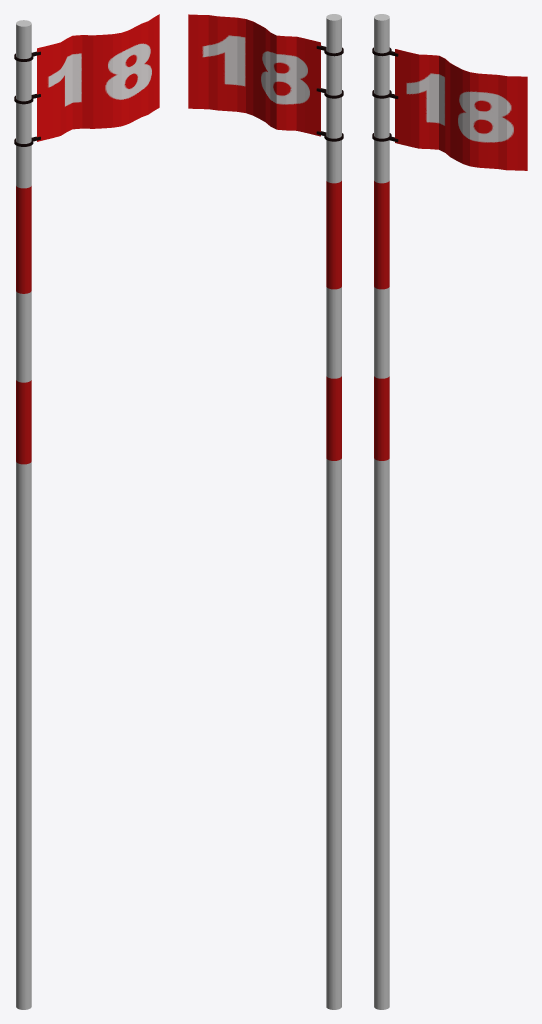
Rendered from FlagBlown.obj.
The picture shows the model from 3 angles, left to right: view 1: azimuth 30°, elevation 25°; view 2: azimuth 150°, elevation 25°; view 3: azimuth 330°, elevation 25°; orthographic projection.
Parts seen in each view (by area): view 1: Cylinder_Pole, Cube_Cube.001, Circle.001_Circle.002; view 2: Cylinder_Pole, Cube_Cube.001, Circle.001_Circle.002; view 3: Cylinder_Pole, Cube_Cube.001.
Boxes of the visible parts, x1,y1,x2,y2 form: Cylinder_Pole: [16, 20, 31, 1009]; Cube_Cube.001: [37, 14, 159, 141]; Circle.001_Circle.002: [14, 51, 40, 146]; Cylinder_Pole: [326, 14, 341, 1009]; Cube_Cube.001: [188, 14, 320, 136]; Circle.001_Circle.002: [316, 45, 343, 141]; Cylinder_Pole: [374, 14, 389, 1009]; Cube_Cube.001: [395, 49, 527, 170].
Bounding box in the file's own units: 1.6 × 10.13 × 0.1883.
